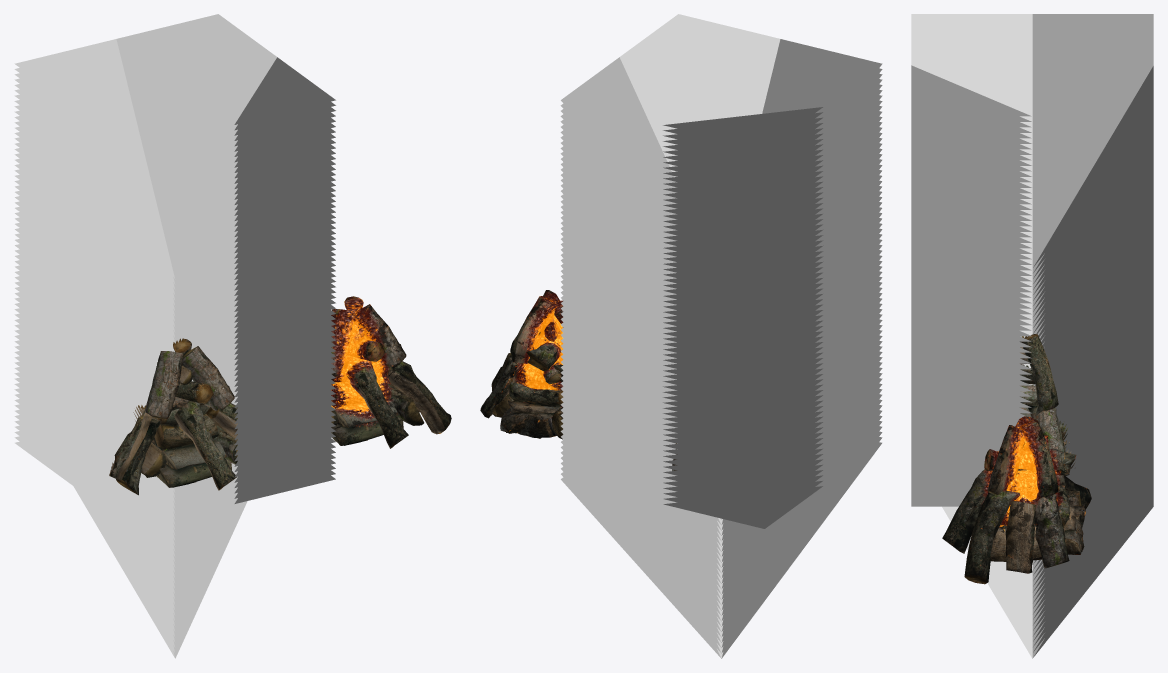
Rendered from CampfireAsset.glb.
3 renders of one model, left to right at view 1: azimuth 30°, elevation 25°; view 2: azimuth 150°, elevation 25°; view 3: azimuth 270°, elevation 25°, orthographic. The views are drawn at different scales.
Visible parts, largest first — view 1: FireDomain, WoodLogsUnburnt, WoodLogsFire; view 2: FireDomain, WoodLogsFire; view 3: FireDomain, WoodLogsFire, WoodLogsUnburnt.
Boxes of the visible parts, left/top/right/bottom form: FireDomain: left=14, top=14, right=335, bottom=658; WoodLogsUnburnt: left=109, top=338, right=237, bottom=495; WoodLogsFire: left=331, top=296, right=451, bottom=448; FireDomain: left=560, top=14, right=882, bottom=658; WoodLogsFire: left=480, top=290, right=563, bottom=439; FireDomain: left=911, top=14, right=1153, bottom=658; WoodLogsFire: left=942, top=416, right=1091, bottom=584; WoodLogsUnburnt: left=1020, top=334, right=1075, bottom=475.
Bounding box in the file's own units: 3.44 × 5.4 × 2.
Materials: 2 (2 with a texture image).
